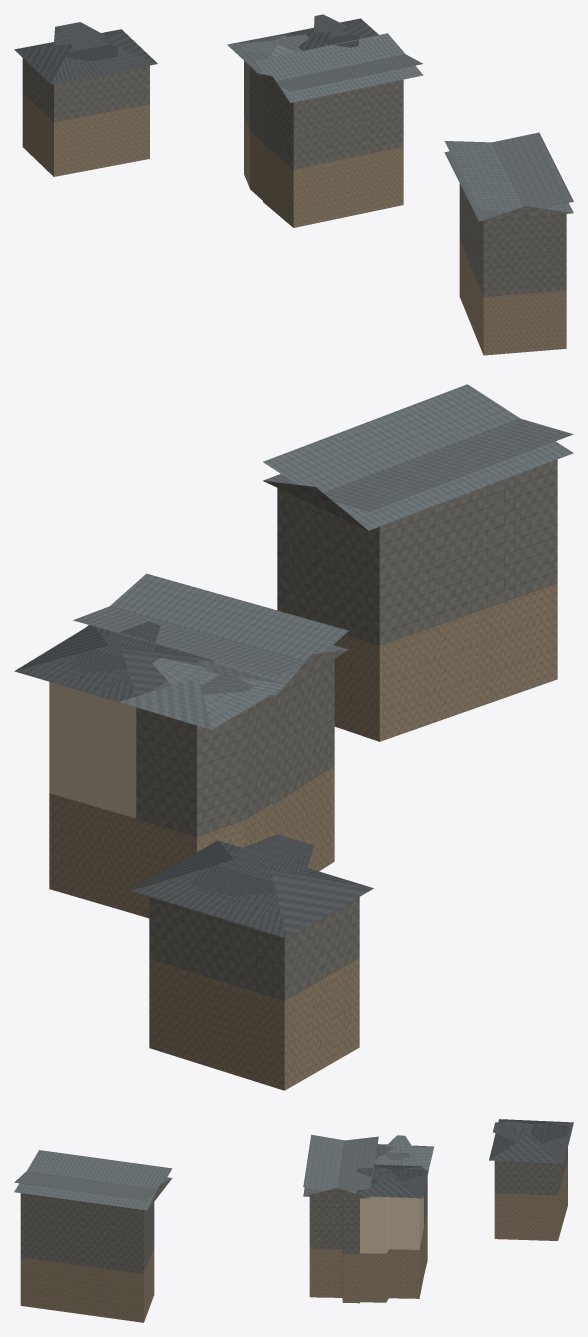
File: bld_c0_10_492.gltf
3 renders of one model, top to bottom at view 1: azimuth 30°, elevation 25°; view 2: azimuth 150°, elevation 25°; view 3: azimuth 270°, elevation 25°, orthographic. The views are drawn at different scales.
Parts seen in each view (by area): view 1: bld_c0_10_492; view 2: bld_c0_10_492; view 3: bld_c0_10_492.
Boxes of the visible parts, bbox=[...] form: bld_c0_10_492: bbox=[14, 14, 573, 355]; bld_c0_10_492: bbox=[14, 384, 573, 1090]; bld_c0_10_492: bbox=[14, 1119, 573, 1322].
Size of the model in its own units: 25.4 by 13.7 by 52.93.
6 materials, 6 textured.
